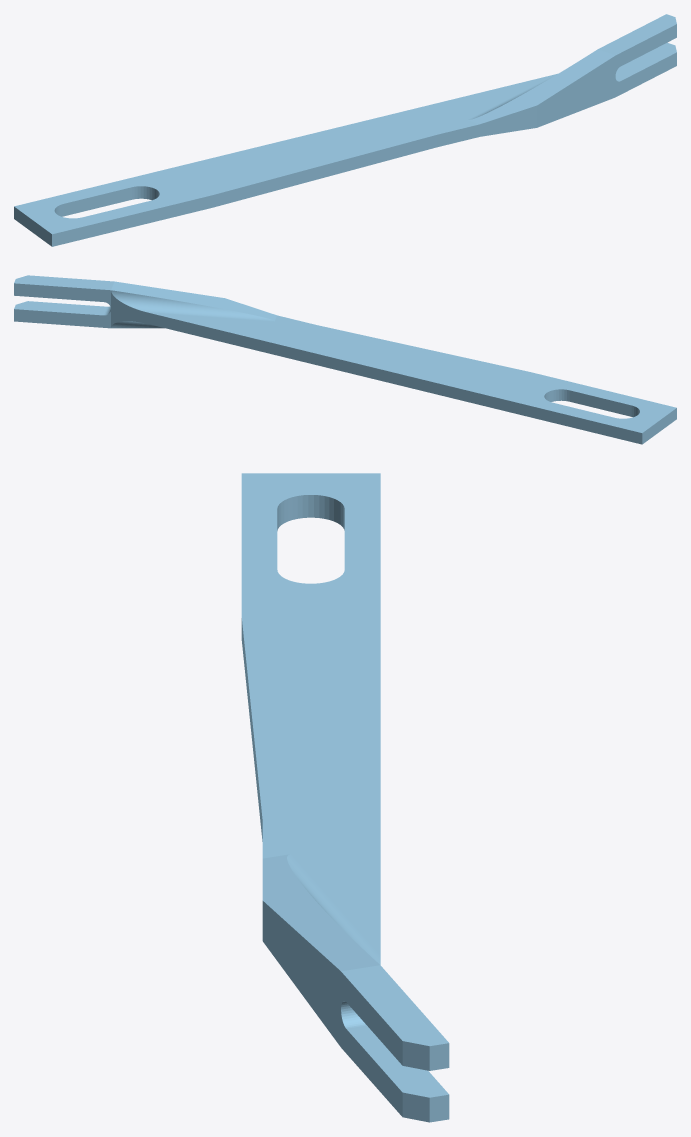
The model's file is tweezer.dae.
3 renders of one model, top to bottom at view 1: azimuth 30°, elevation 25°; view 2: azimuth 150°, elevation 25°; view 3: azimuth 270°, elevation 25°, orthographic. The views are drawn at different scales.
Visible parts, largest first — view 1: tweezer; view 2: tweezer; view 3: tweezer.
Boxes of the visible parts, left/top/right/bottom form: tweezer: left=14, top=14, right=676, bottom=246; tweezer: left=14, top=275, right=676, bottom=444; tweezer: left=241, top=473, right=449, bottom=1122.
Bounding box in the file's own units: 0.0337 × 0.00494 × 0.002.
